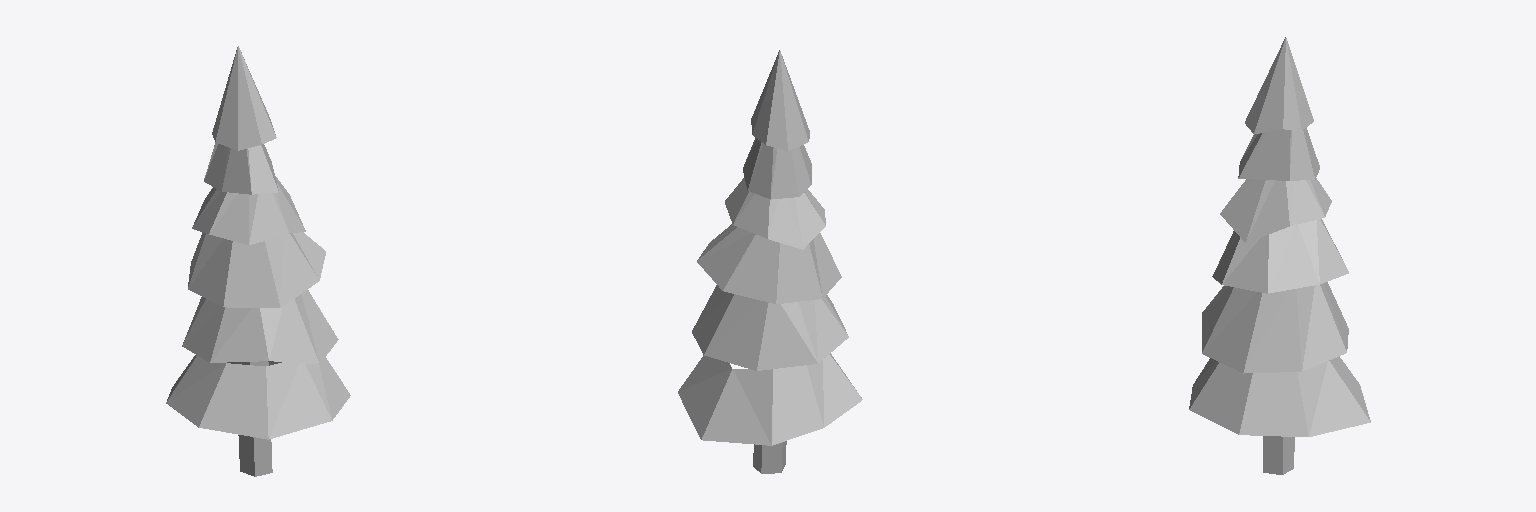
The model's file is L2PINE_01.obj.
The picture shows the model from 3 angles: view 1: azimuth 30°, elevation 25°; view 2: azimuth 150°, elevation 25°; view 3: azimuth 270°, elevation 25°; orthographic projection.
Parts seen in each view (by area): view 1: Cylinder.001, Cylinder; view 2: Cylinder.001, Cylinder; view 3: Cylinder.001, Cylinder.
Part boxes in pixels (left/top/right/bottom): Cylinder.001: left=166, top=46, right=350, bottom=439; Cylinder: left=235, top=361, right=272, bottom=476; Cylinder.001: left=678, top=50, right=862, bottom=445; Cylinder: left=753, top=441, right=786, bottom=473; Cylinder.001: left=1189, top=37, right=1370, bottom=436; Cylinder: left=1263, top=436, right=1294, bottom=474.
Bounding box in the file's own units: 2.52 × 6.72 × 2.61.